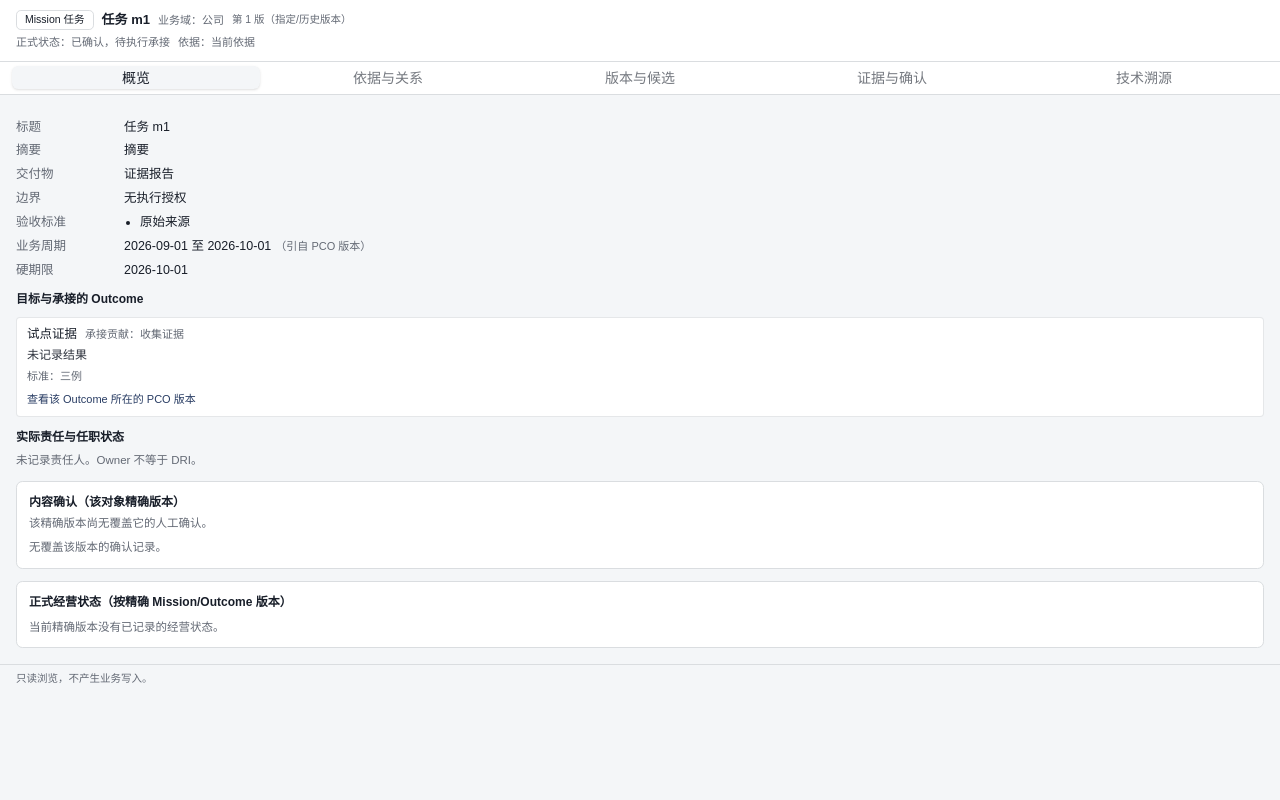
Scenario: browser readability fixes › labels candidate and formal revisions explicitly and dedupes the same revision
The width and height of the screenshot is (1280, 800).
Click the tab "版本与候选". click: (640, 78)
box: [516, 66, 764, 89]
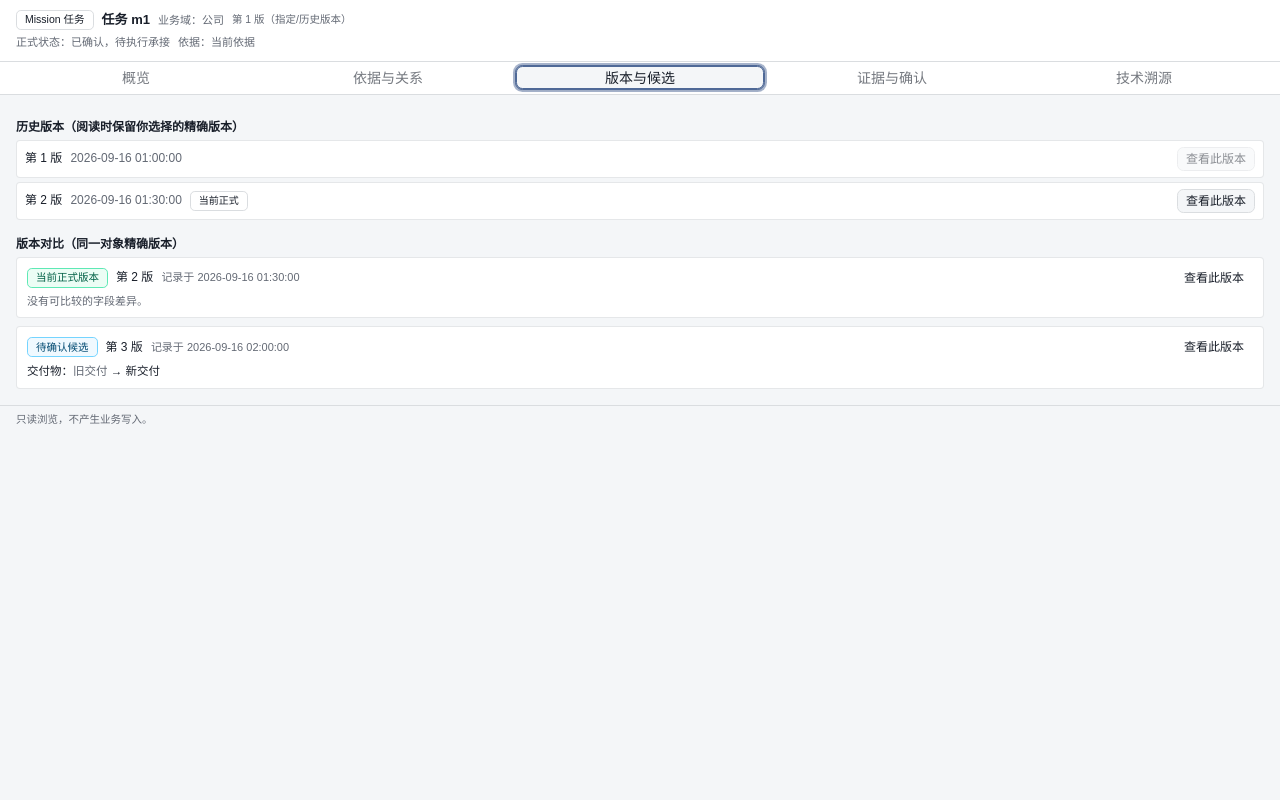
Check: the text "待确认候选" is shown, box [27, 338, 98, 358]
Check: the text "旧交付" is shown, box [73, 366, 108, 378]
Check: the text "当前正式版本" is shown once, box [27, 268, 108, 288]
